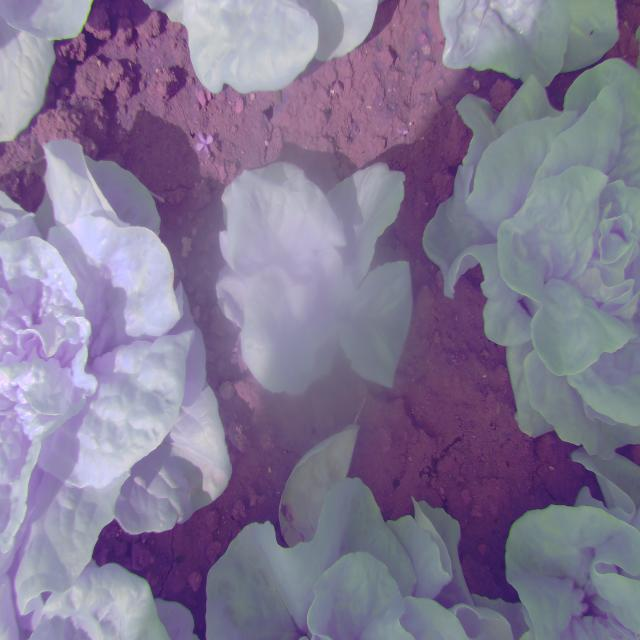vege: (218, 155, 419, 399)
